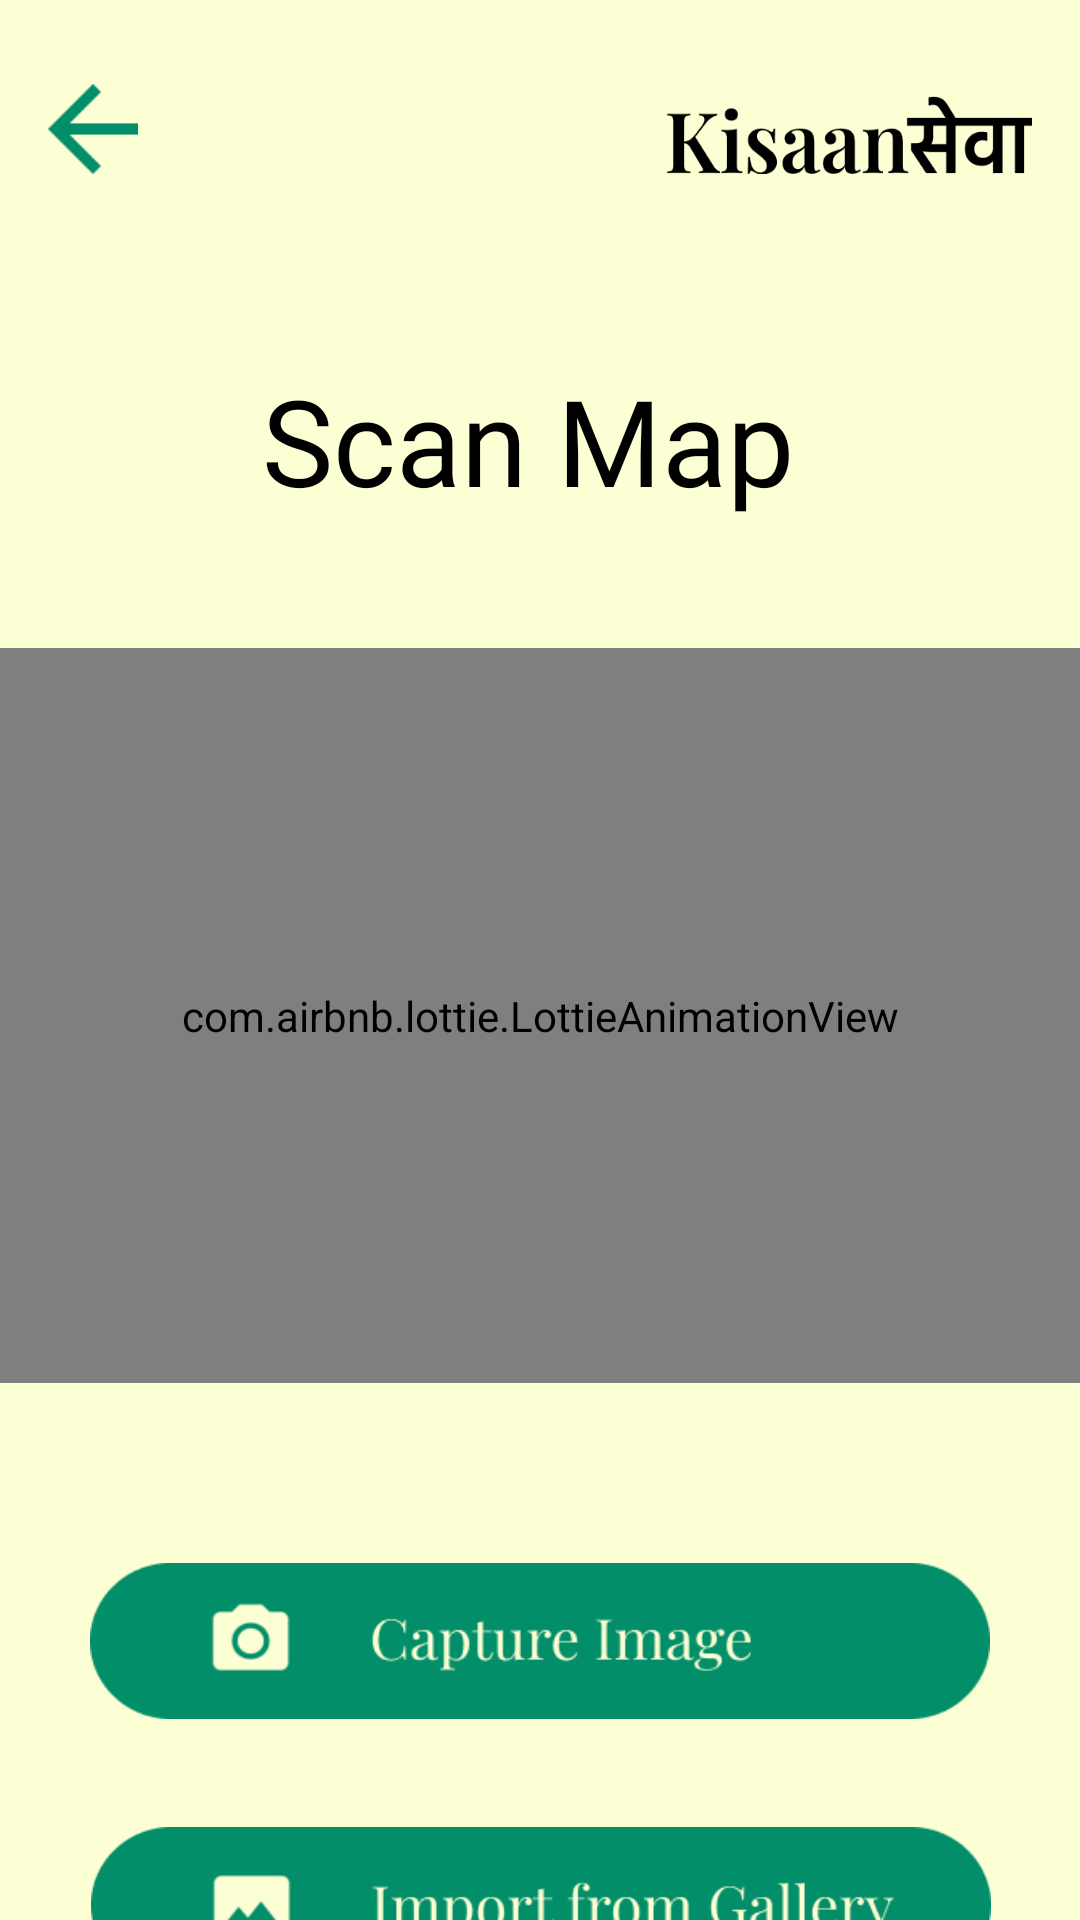

Named icons in this screenshot (1080px×1920px) and their bounding boxes, box=[x1, y1, x2, y2]:
back: box=[48, 84, 138, 174]
